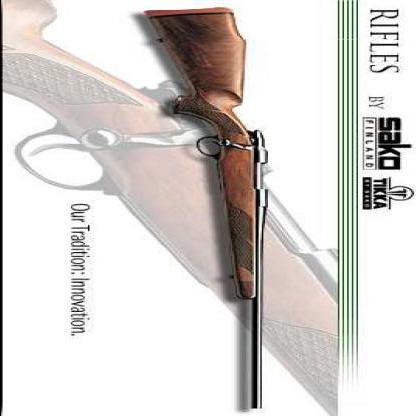rifle: (144, 8, 289, 414)
